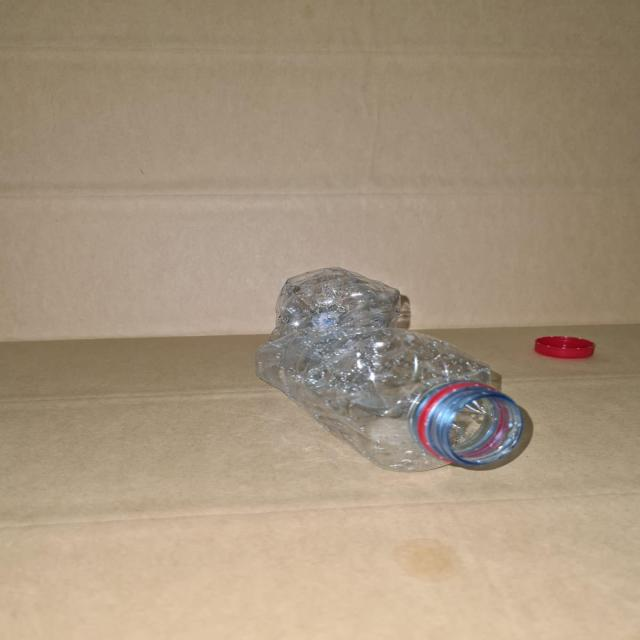bottle: (243, 271, 537, 487)
